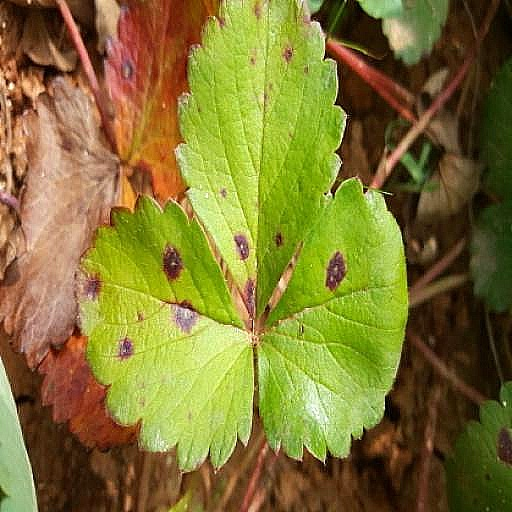Leaf Spot: (163, 183, 339, 511), (257, 38, 439, 318), (102, 45, 258, 339), (296, 292, 410, 511)
